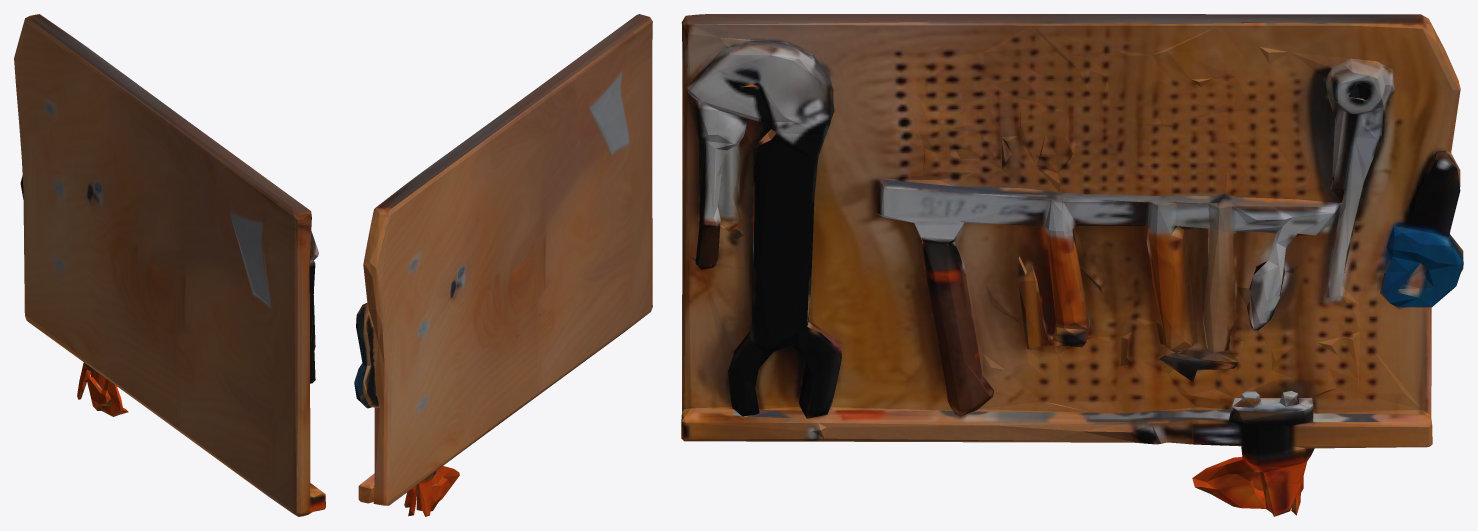
The model's file is tool_board.glb.
The picture shows the model from 3 angles, left to right: view 1: azimuth 30°, elevation 25°; view 2: azimuth 150°, elevation 25°; view 3: azimuth 270°, elevation 25°; orthographic projection. The views are drawn at different scales.
Parts seen in each view (by area): view 1: textured_mesh.obj; view 2: textured_mesh.obj; view 3: textured_mesh.obj.
Boxes of the visible parts, x1,y1,x2,y2 form: textured_mesh.obj: (14, 14, 325, 516); textured_mesh.obj: (354, 14, 652, 516); textured_mesh.obj: (681, 14, 1463, 516).
Size of the model in its own units: 0.1692 by 1.5 by 2.19.
1 material, 1 textured.
